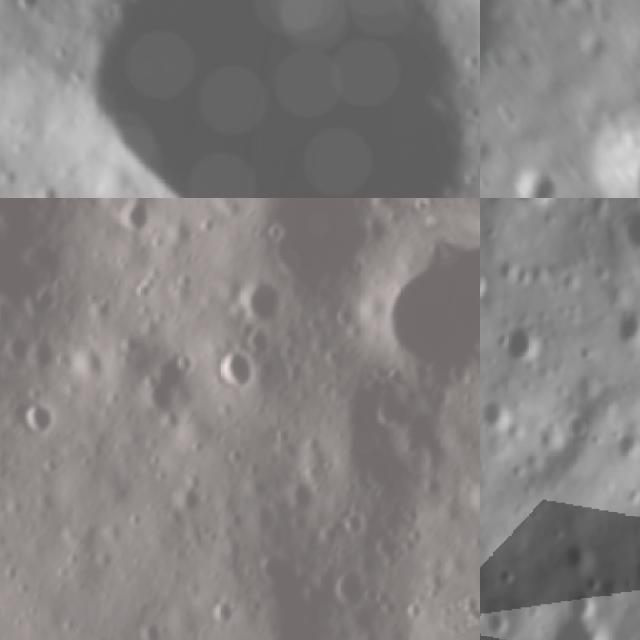crater: (24, 0, 480, 198), (353, 251, 480, 400), (224, 260, 295, 338), (593, 110, 640, 198), (547, 595, 620, 640), (208, 349, 268, 401), (503, 310, 549, 368), (327, 570, 379, 620), (204, 583, 248, 638), (15, 396, 60, 445), (505, 163, 560, 198), (480, 385, 522, 430), (550, 538, 598, 577), (610, 202, 640, 259), (610, 298, 640, 349), (556, 408, 598, 444), (116, 198, 156, 234), (573, 28, 608, 67), (483, 603, 517, 638), (496, 198, 562, 213), (618, 425, 640, 462), (532, 0, 569, 15), (630, 541, 640, 586)
